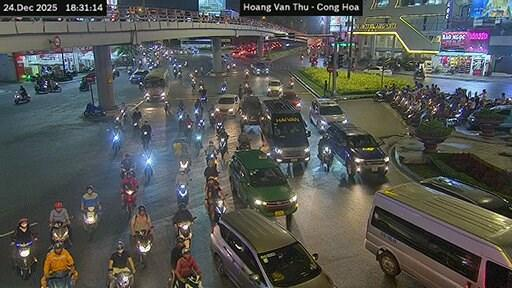motorbike: (13, 239, 34, 279), (134, 229, 150, 261), (83, 207, 98, 239), (51, 221, 70, 246), (45, 270, 71, 287), (176, 220, 192, 247), (169, 274, 201, 287), (122, 184, 134, 217), (112, 270, 133, 287), (211, 198, 224, 223), (320, 145, 332, 171), (83, 103, 105, 115), (176, 184, 188, 205), (144, 154, 152, 184), (217, 136, 227, 158), (192, 130, 201, 154), (13, 91, 29, 102), (373, 90, 390, 100), (121, 166, 134, 178), (141, 130, 149, 149), (35, 81, 47, 93), (205, 153, 216, 166), (114, 133, 120, 156), (179, 157, 188, 172), (214, 121, 224, 134), (195, 117, 204, 131), (79, 76, 88, 90), (184, 124, 192, 138), (236, 140, 250, 148), (48, 82, 60, 91), (131, 117, 138, 130), (199, 91, 205, 106), (208, 112, 214, 126), (413, 71, 423, 79), (194, 107, 201, 118), (198, 84, 204, 94), (220, 84, 226, 93), (138, 81, 143, 90), (288, 80, 293, 88), (172, 67, 176, 77), (191, 79, 195, 89), (243, 71, 248, 79), (226, 63, 230, 72), (176, 71, 181, 77), (182, 61, 186, 66)
